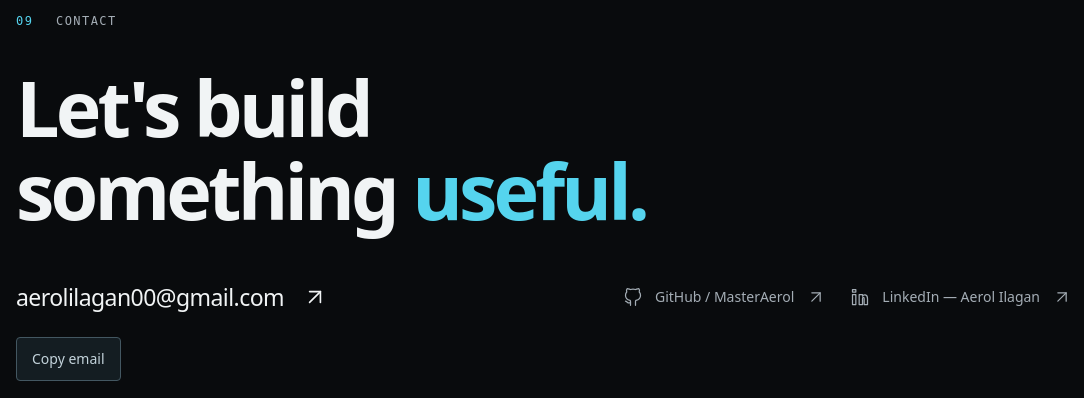
Test case: recruiter proof and readiness › copies the verified email and announces success without blocking alerts
Click the button "Copy email". click: (68, 358)
box: 16,336 -> 120,380
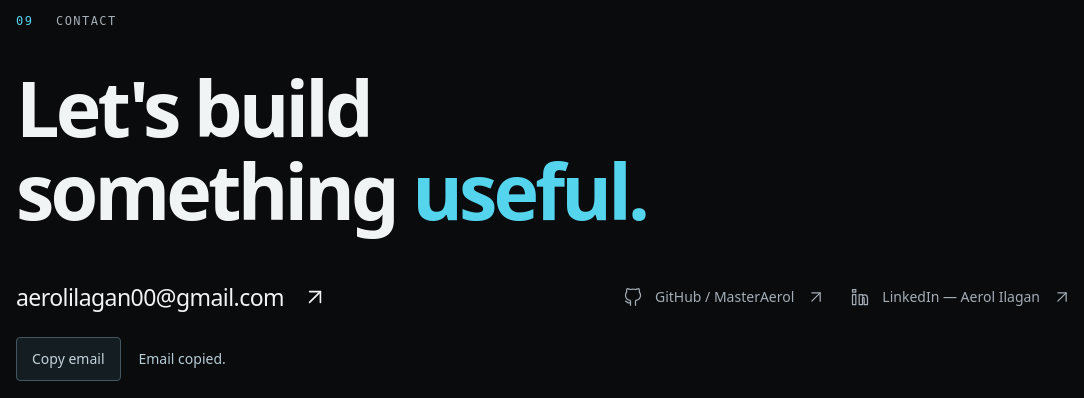
Expected: the message reads "Email copied.", 138,349 -> 226,368
